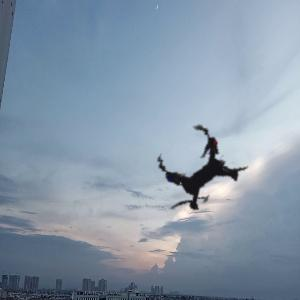drone: (121, 98, 279, 256)
